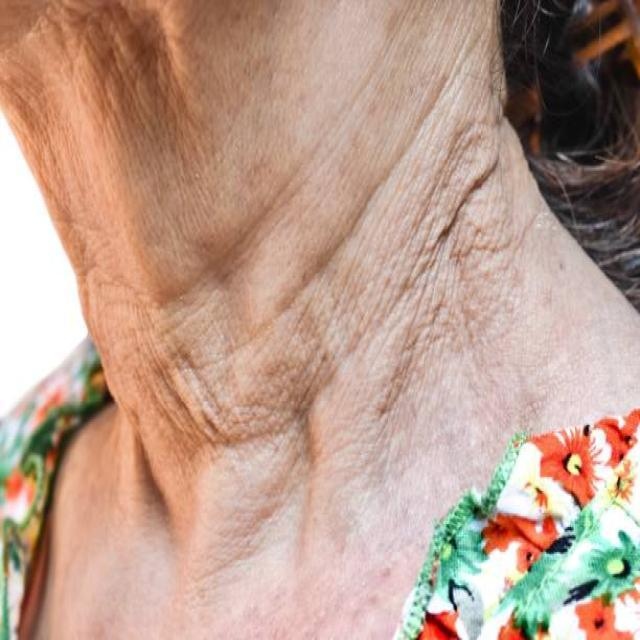dry: (128, 46, 464, 468)
